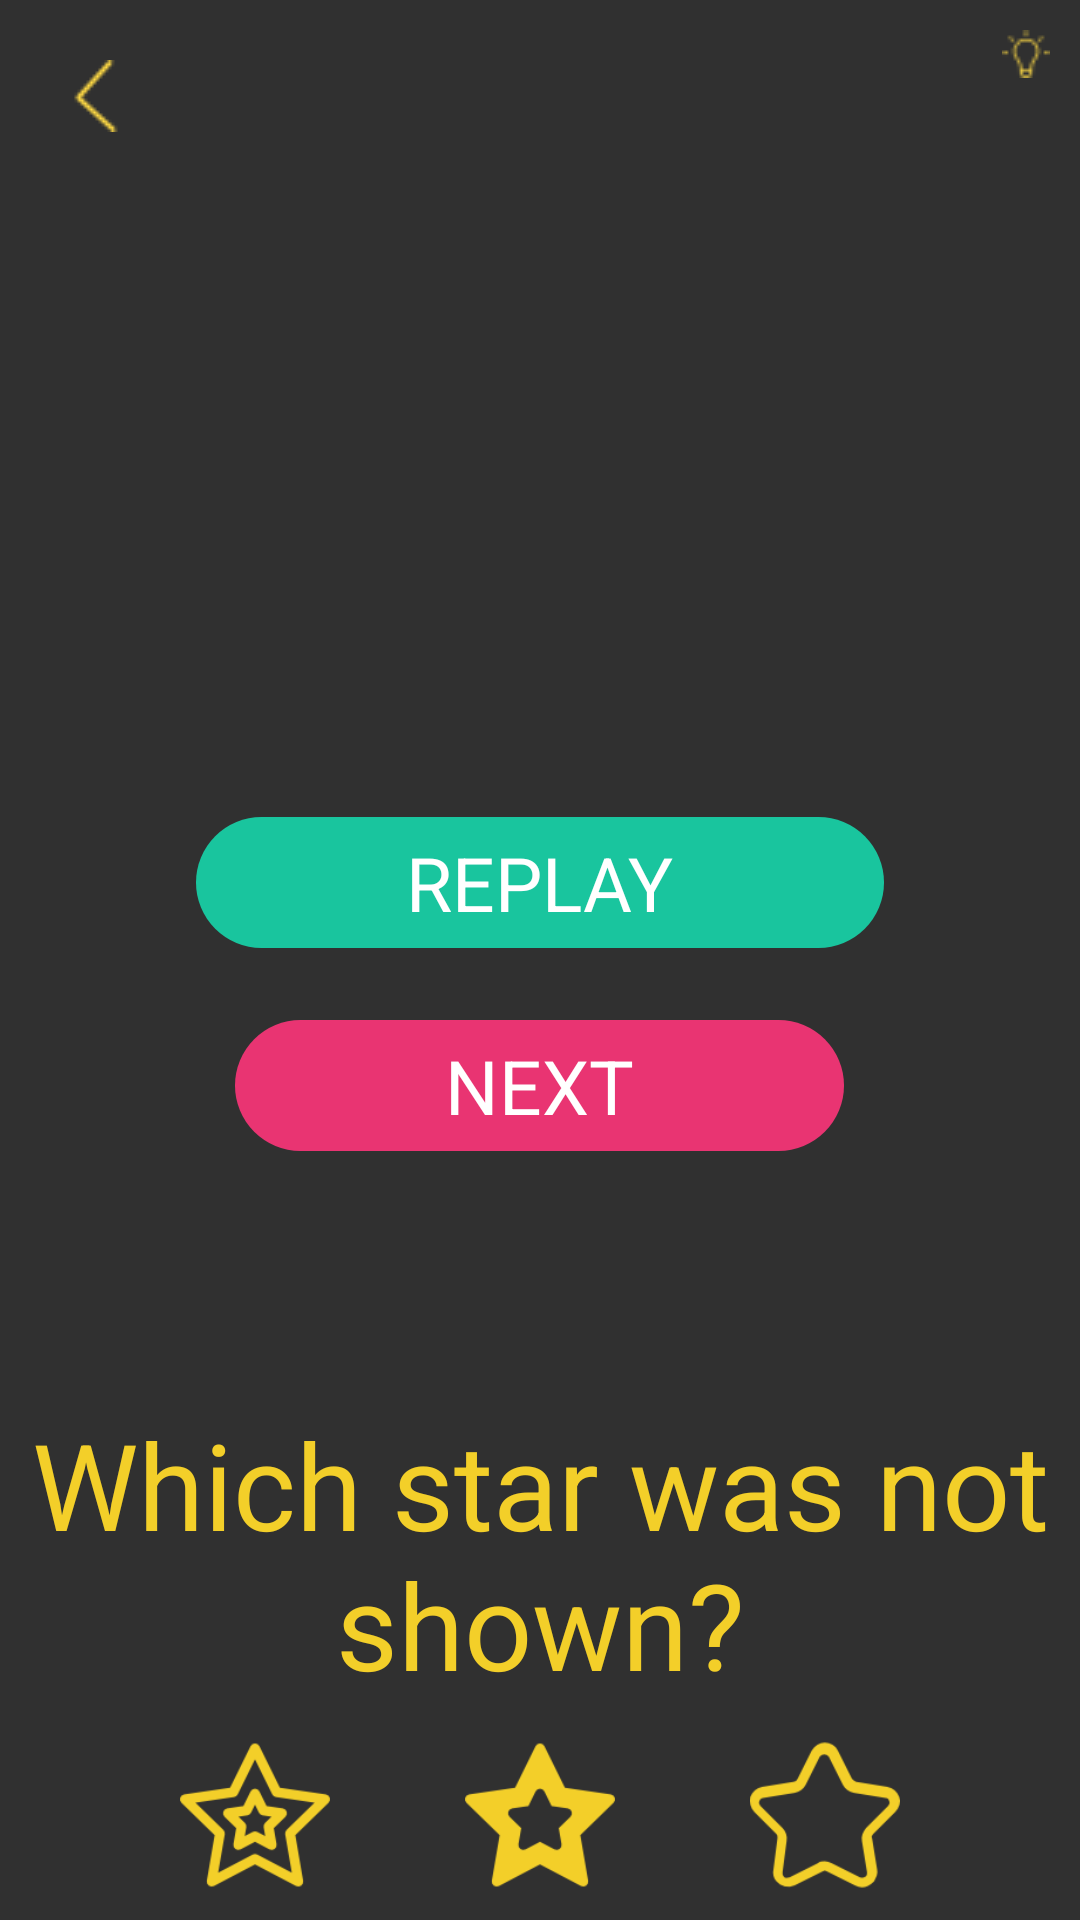

Icons on this 1080w x 1920h Android screen, each with the point to tap as (x=x, y=y):
arrow: (x=95, y=96)
lightbulb: (x=1026, y=54)
